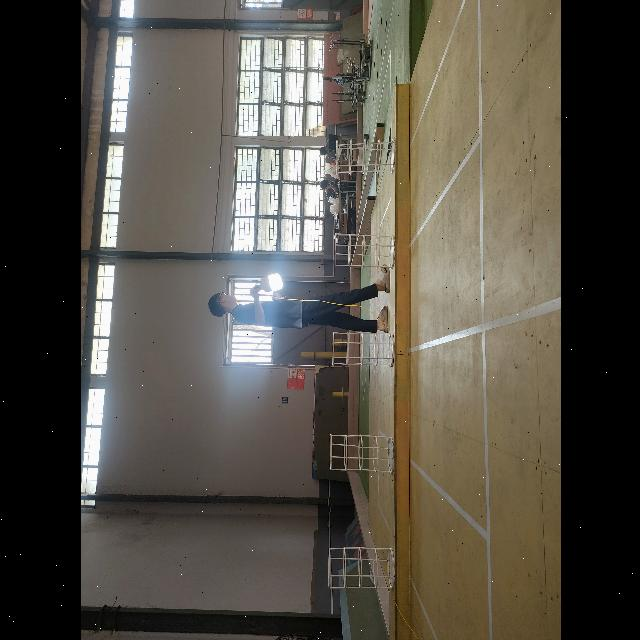S: (323, 540, 397, 594), (326, 424, 396, 474), (327, 321, 395, 371), (328, 229, 394, 273), (332, 131, 394, 177)
